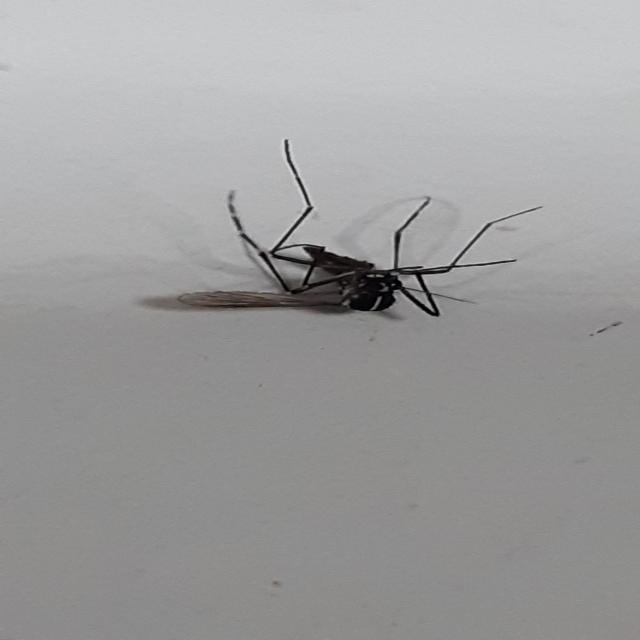albopictus: (166, 142, 546, 322)
